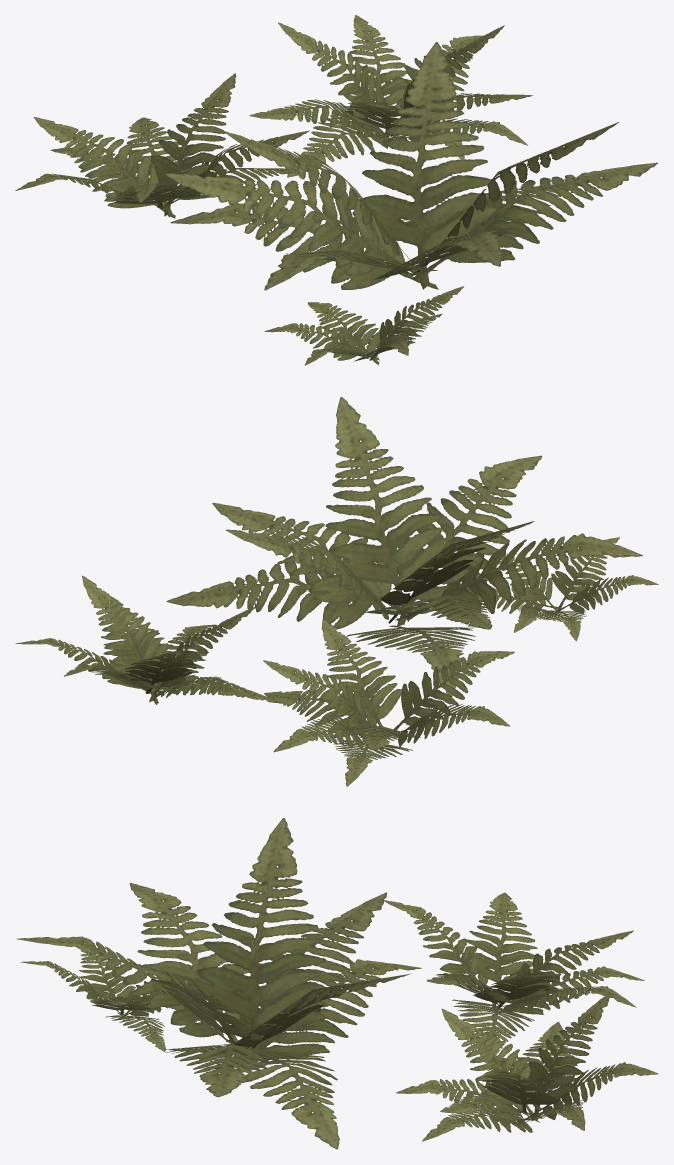
Rendered from Bush4.fbx.
The picture shows the model from 3 angles, top to bottom: view 1: azimuth 30°, elevation 25°; view 2: azimuth 150°, elevation 25°; view 3: azimuth 270°, elevation 25°; orthographic projection. The views are drawn at different scales.
Visible parts, largest first — view 1: SM_cmn_mount_Bush_03b; view 2: SM_cmn_mount_Bush_03b; view 3: SM_cmn_mount_Bush_03b.
Part boxes in pixels (x1=…): SM_cmn_mount_Bush_03b: x1=15, y1=15, x2=657, y2=365; SM_cmn_mount_Bush_03b: x1=15, y1=397, x2=658, y2=786; SM_cmn_mount_Bush_03b: x1=17, y1=818, x2=658, y2=1149.
Bounding box in the file's own units: 118 × 40.36 × 135.
